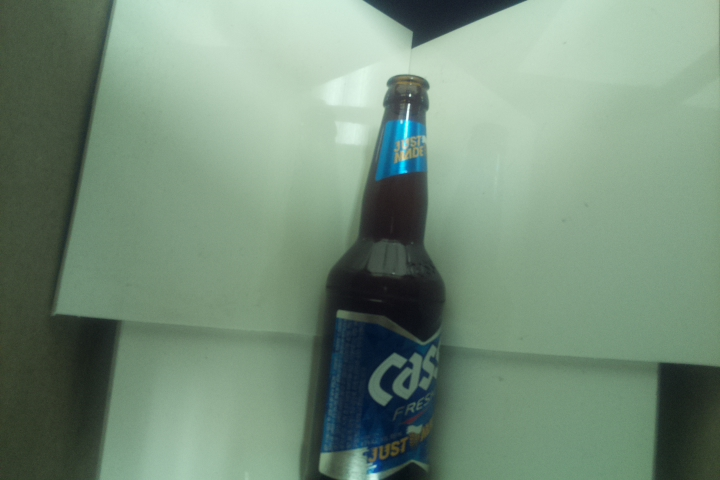makju: (297, 73, 447, 480)
